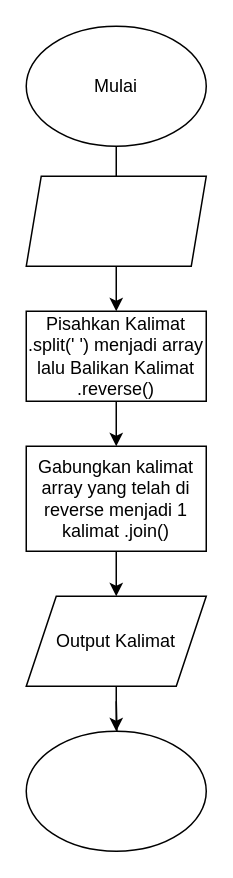
The diagram is 233 pixels wide and 878 high, and some of its shapes have lost their labels. The box of each missing label's shape, as (x1, y1, x2, y2) in pixels:
Input Kalimat: (25, 175, 206, 266)
Selesai: (25, 730, 206, 851)
